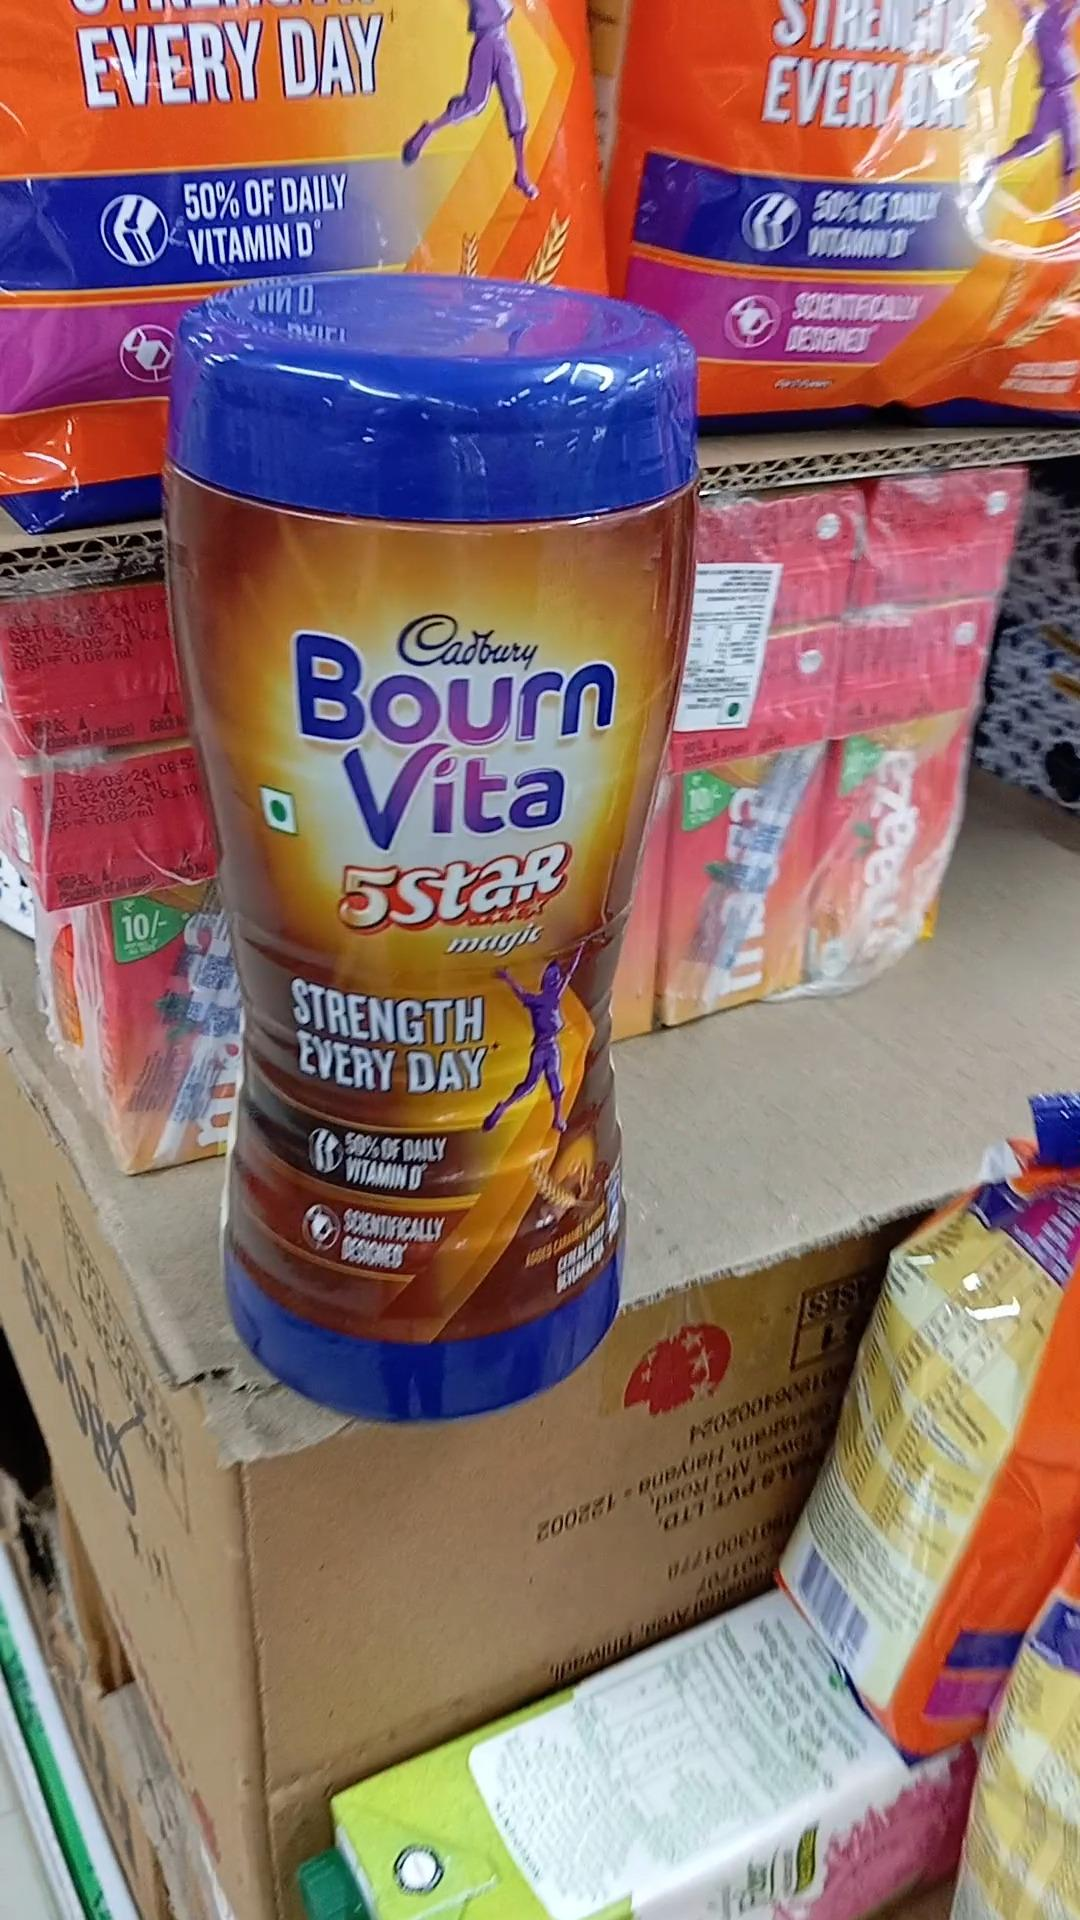BOURN_VITA_FIVE_STAR_MAGIC_500_G_JAR: (177, 276, 673, 1416)
